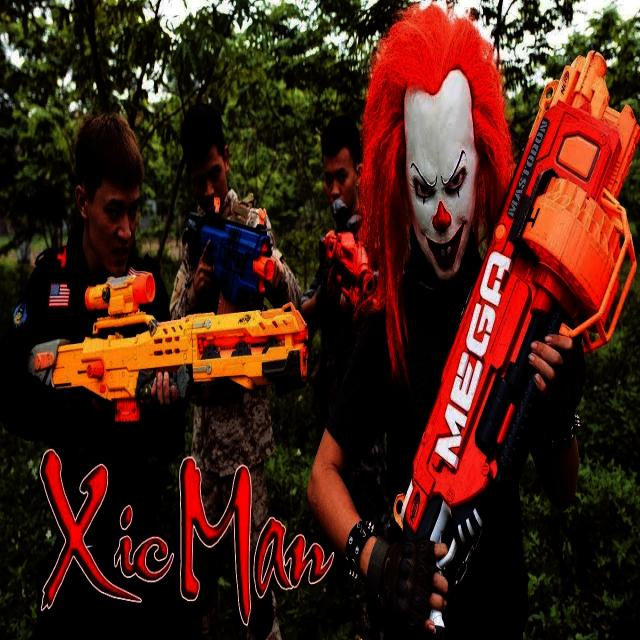Nerf gun: (378, 47, 639, 625), (21, 260, 311, 436), (180, 207, 279, 321), (307, 223, 377, 325)
